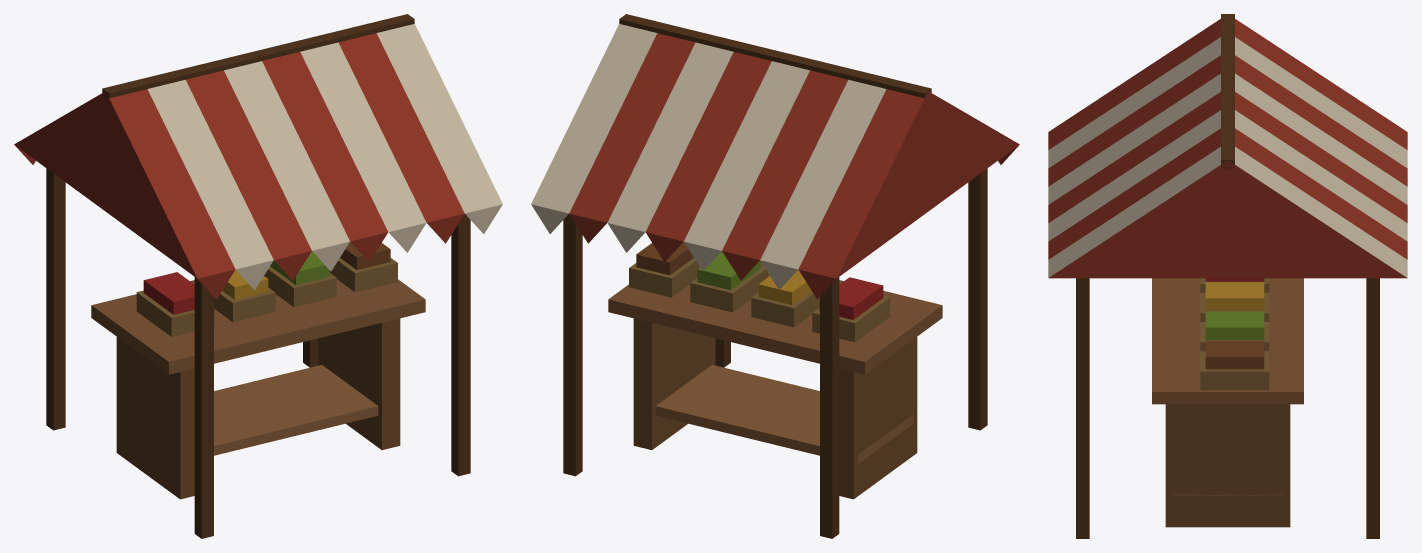
File: stall-madder.glb
The picture shows the model from 3 angles, left to right: view 1: azimuth 30°, elevation 25°; view 2: azimuth 150°, elevation 25°; view 3: azimuth 270°, elevation 25°; orthographic projection. The views are drawn at different scales.
Visible parts, largest first — view 1: stall-madder; view 2: stall-madder; view 3: stall-madder.
Part boxes in pixels (x1=…): stall-madder: x1=14, y1=14, x2=502, y2=538; stall-madder: x1=531, y1=14, x2=1019, y2=538; stall-madder: x1=1048, y1=14, x2=1407, y2=538.
Bounding box in the file's own units: 1 × 1.24 × 1.04.
